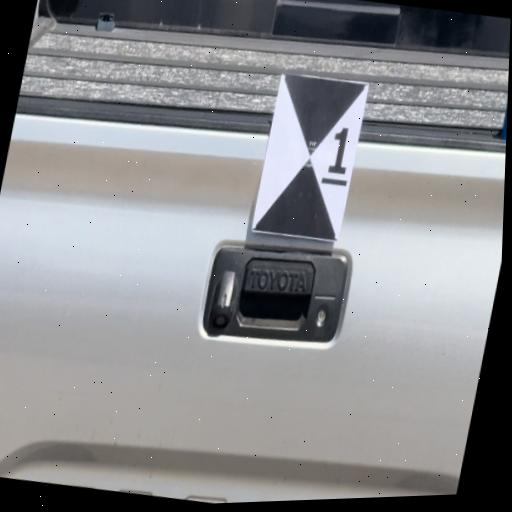target1: (251, 71, 368, 242)
